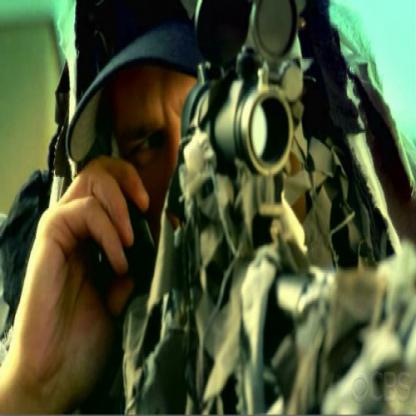Guns: (120, 0, 415, 415)
